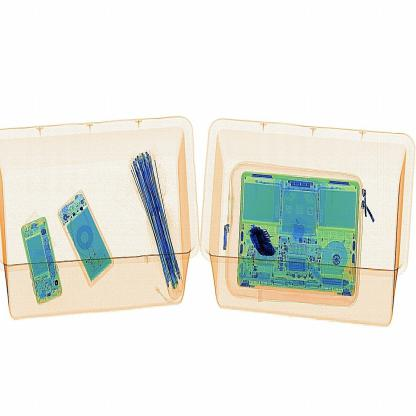scissors: (242, 215, 294, 278)
